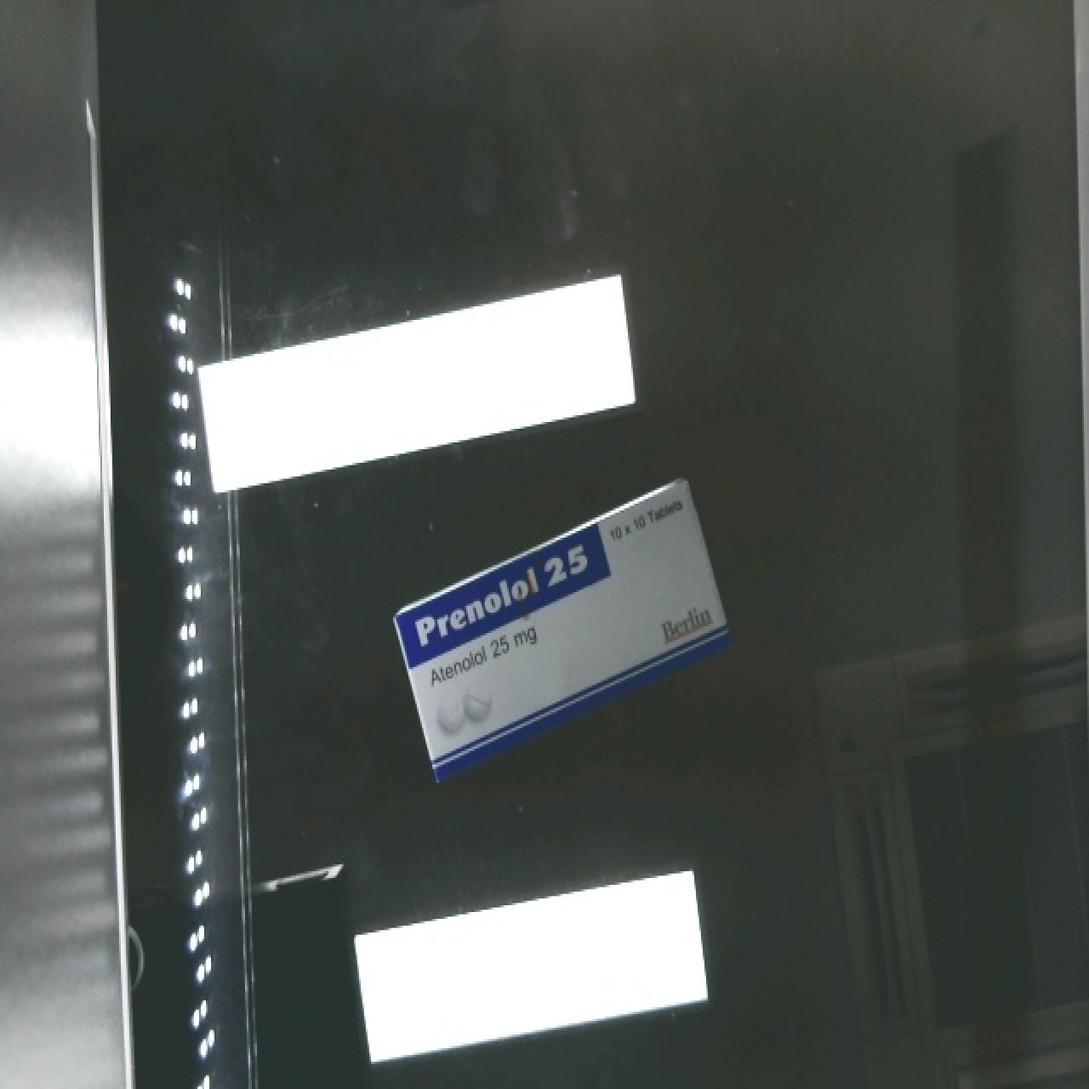medicine_label_obb: (391, 523, 617, 667)
